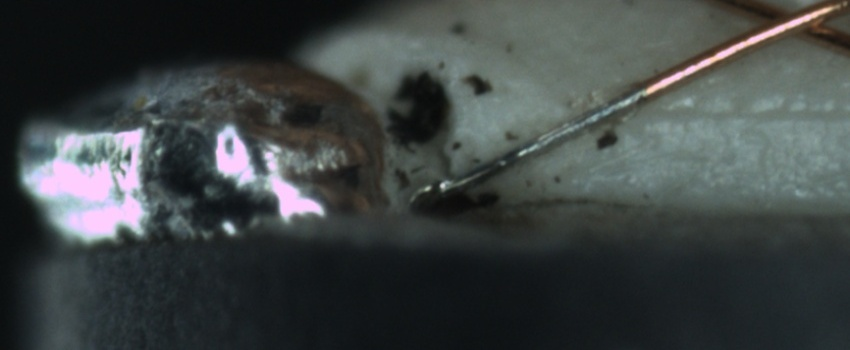CL: (732, 1, 845, 47)
DL: (618, 84, 850, 148)
TS: (413, 88, 644, 199)
